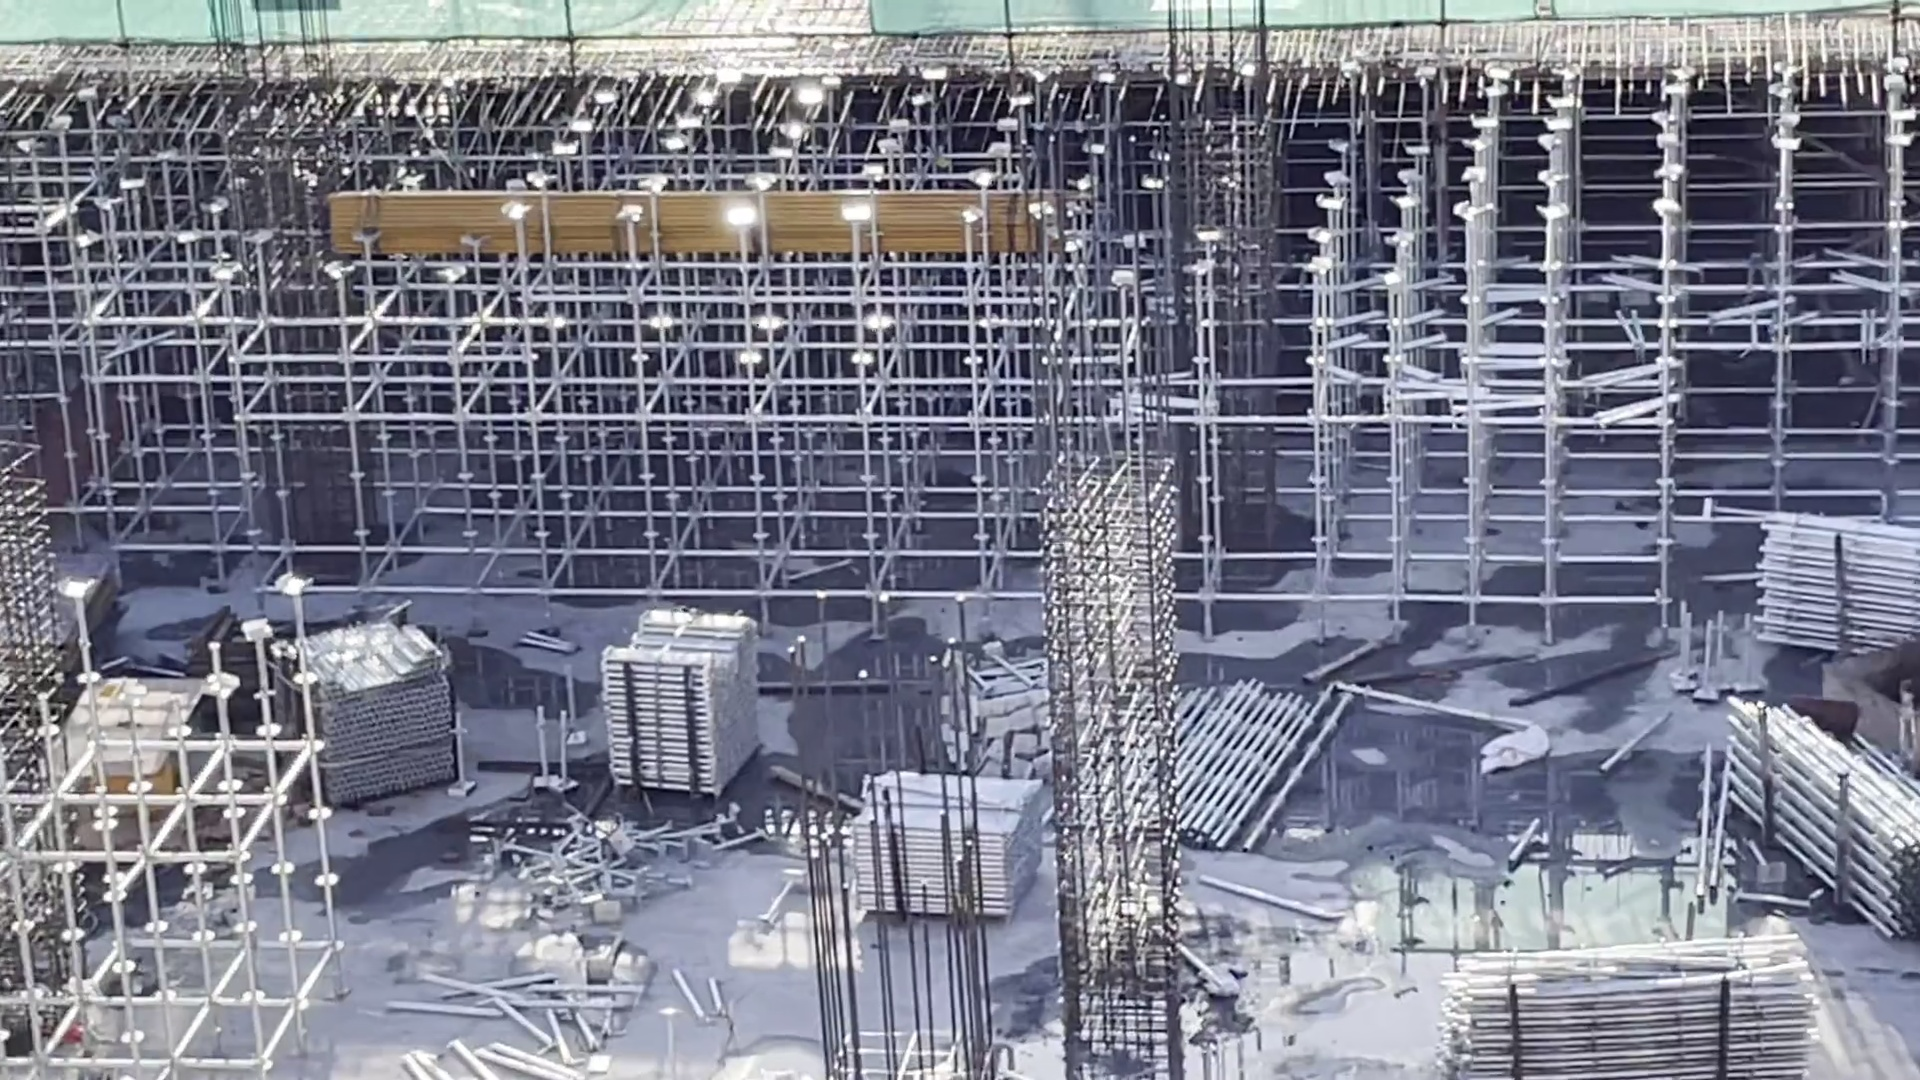cutter: (79, 673, 218, 847)
hopper: (1832, 642, 1920, 753)
scaffold: (1464, 952, 1821, 1080), (1759, 692, 1920, 886), (845, 791, 1048, 931), (1104, 694, 1309, 829), (272, 644, 435, 808), (611, 615, 733, 812), (1741, 508, 1920, 625)
